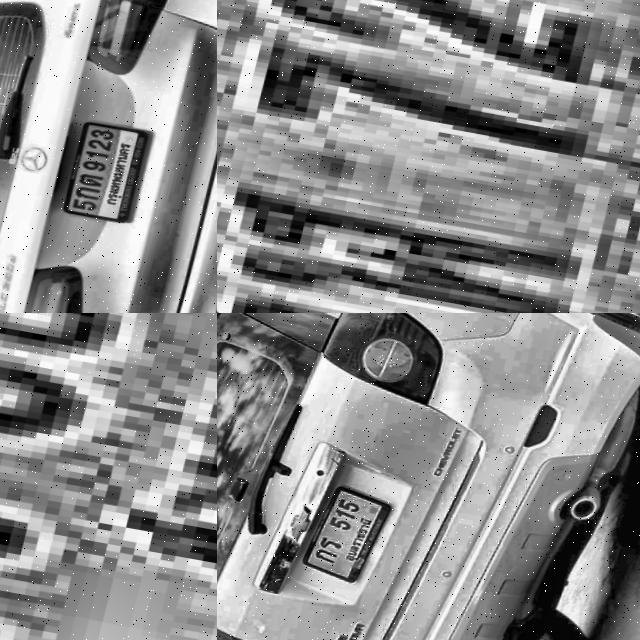license-plate: (217, 0, 640, 313), (0, 313, 217, 640), (61, 117, 159, 226), (302, 481, 403, 586)
